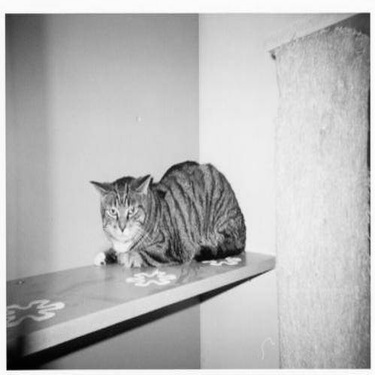cat: (88, 158, 248, 271)
